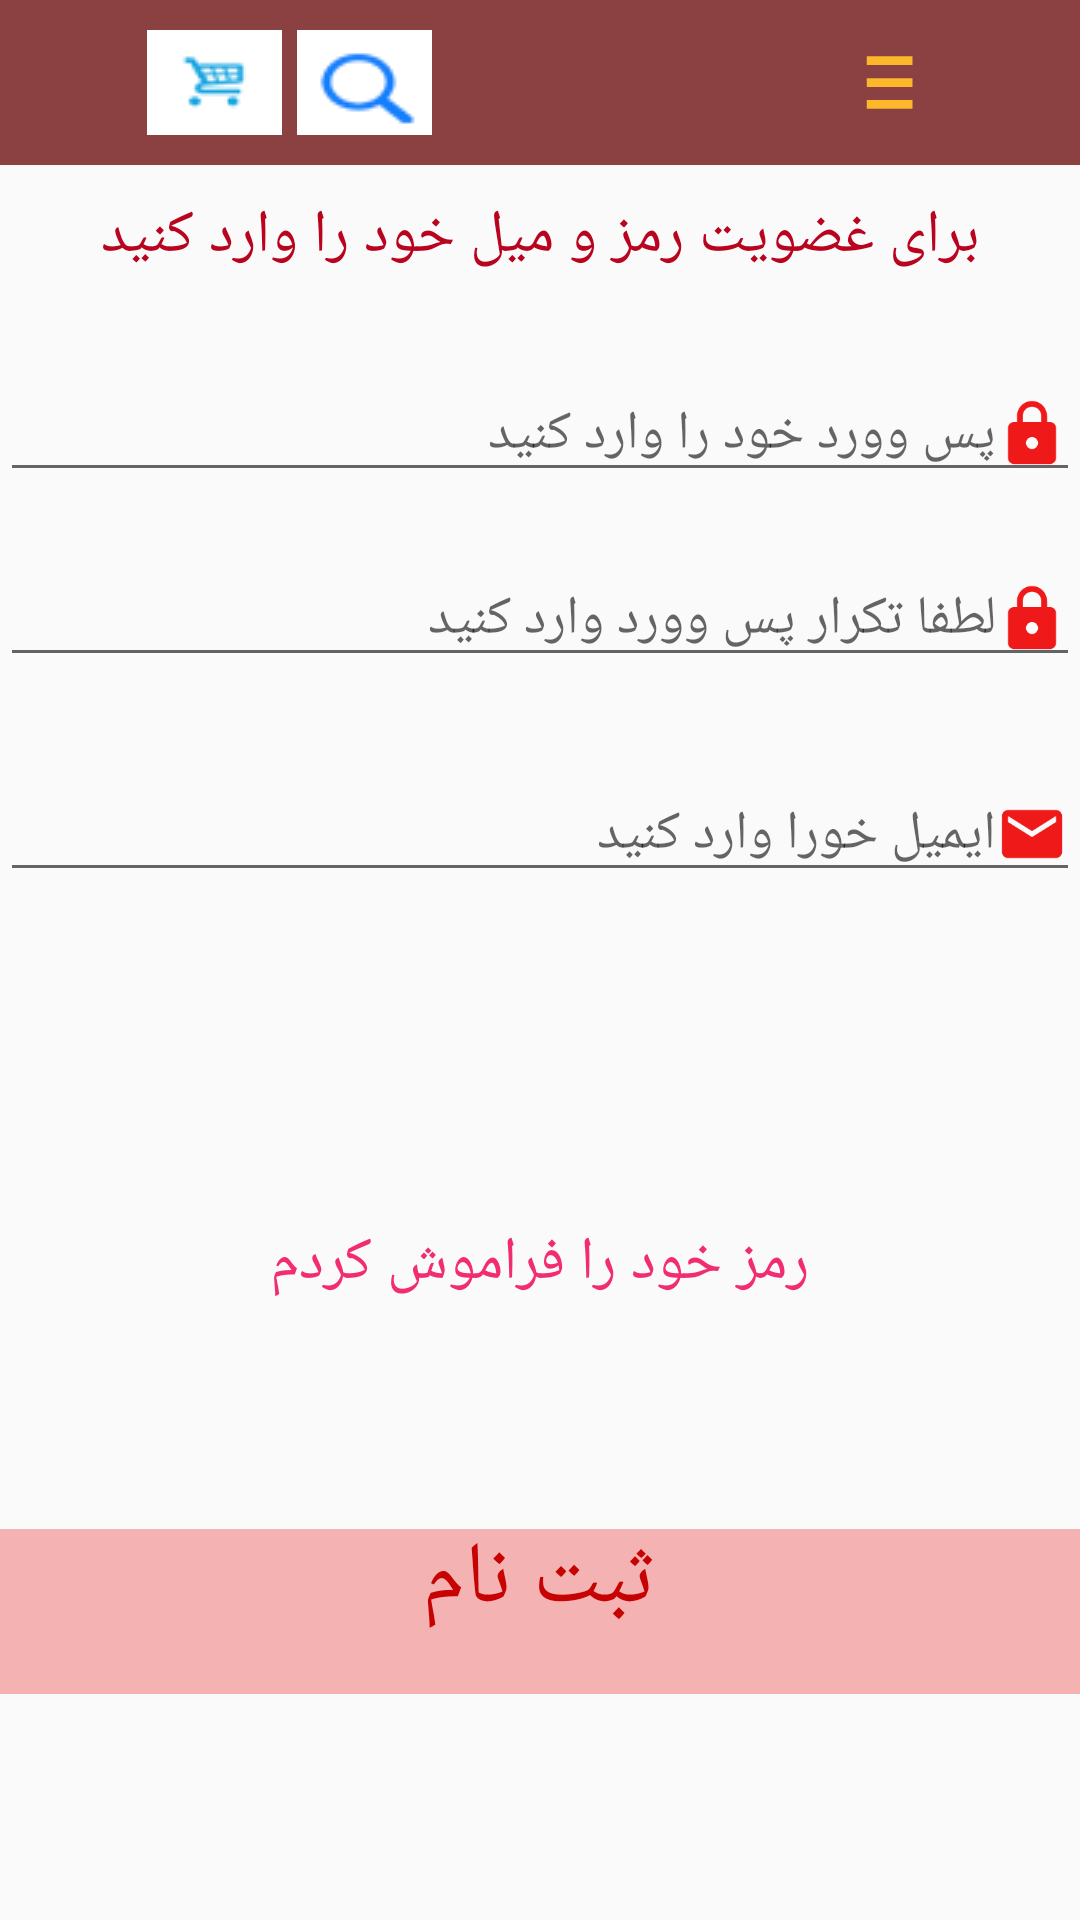

Icons on this 1080px x 1920px Android screen, each with its box as box=[x1, y1, x2, y2]:
menu: box=[866, 56, 913, 109]
ser: box=[297, 30, 432, 135]
